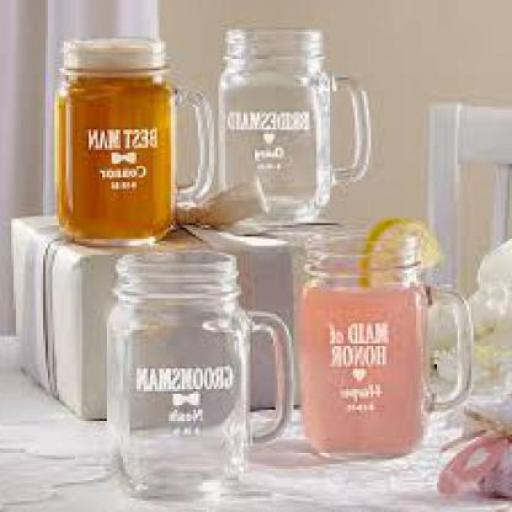biodegradable: (62, 73, 172, 241), (362, 218, 442, 285)
glass: (109, 246, 293, 494), (300, 230, 475, 456), (59, 36, 217, 246), (216, 22, 376, 212)
